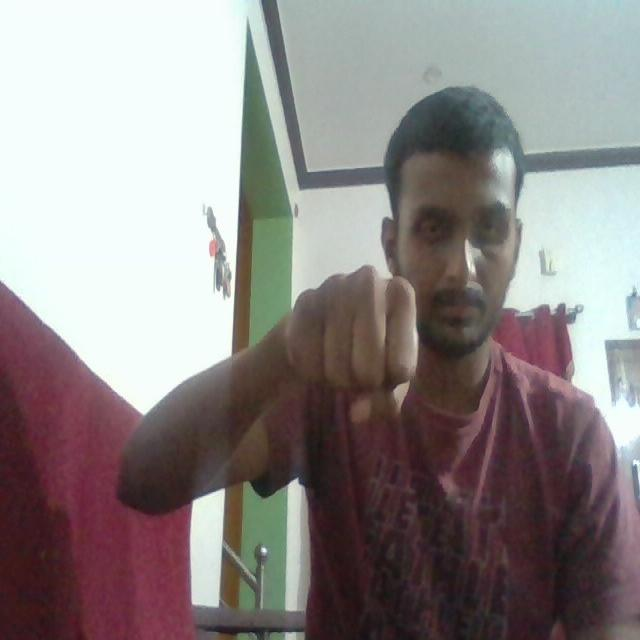yes: (277, 262, 446, 416)
